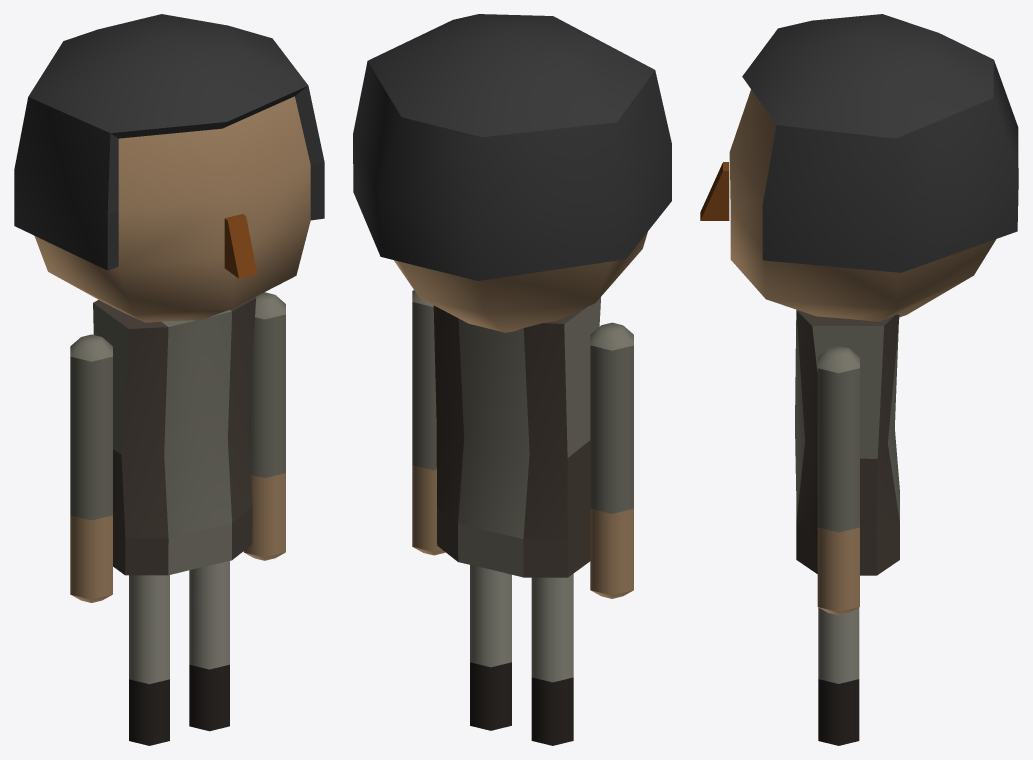
File: Villager_2.FBX
3 views of the same model, side by side, from view 1: azimuth 30°, elevation 25°; view 2: azimuth 150°, elevation 25°; view 3: azimuth 270°, elevation 25° (orthographic). The views are drawn at different scales.
Visible parts, largest first — view 1: Box050; view 2: Box050; view 3: Box050.
Part boxes in pixels (<box>): Box050: <box>14,14,324,745</box>; Box050: <box>353,14,671,745</box>; Box050: <box>700,14,1018,745</box>.
Bounding box in the file's own units: 32.63 × 80.16 × 33.69.
